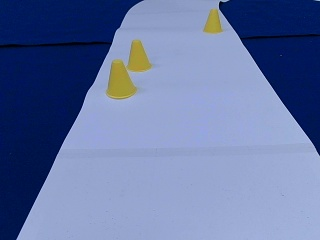cone: (105, 60, 137, 98), (126, 40, 151, 71), (203, 9, 221, 33)
